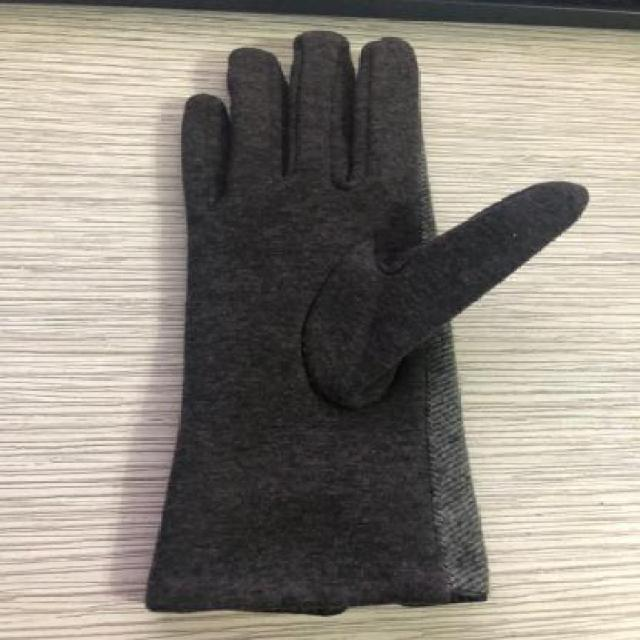Gloves: (164, 35, 588, 610)
